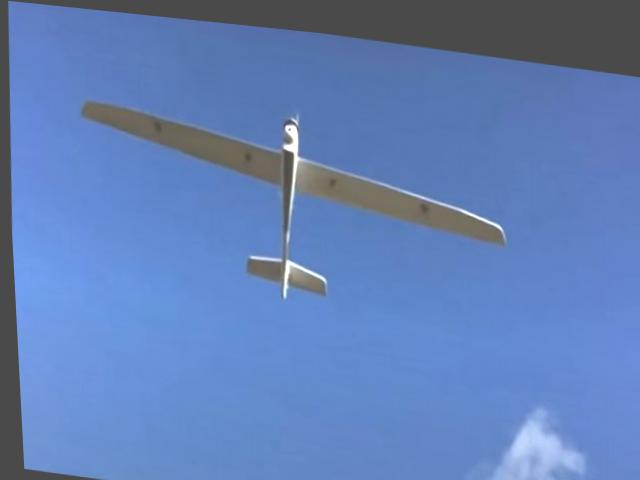iha: (71, 82, 514, 320)
